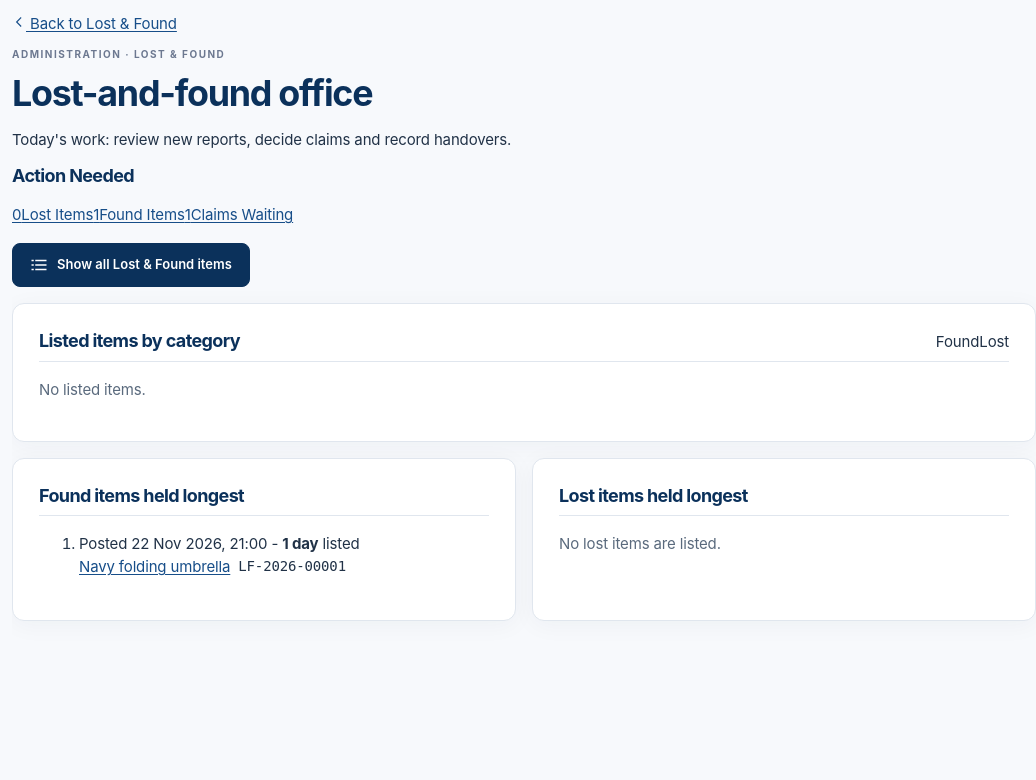
lost-and-found integration boundaries › the dashboard held-item list opens the mounted detail route
The width and height of the screenshot is (1036, 780).
Click the link "Navy folding umbrella" at point(155, 567), box [79,555,230,579]
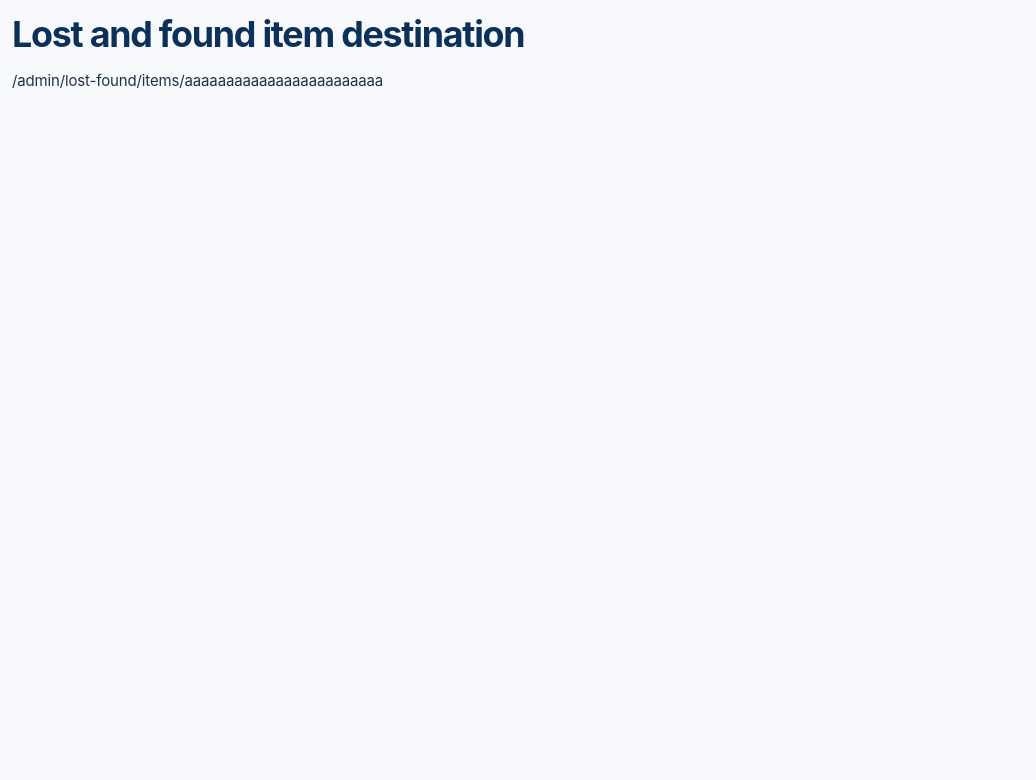
Now the heading "Lost and found item destination" is shown, box [12,12,524,56]
